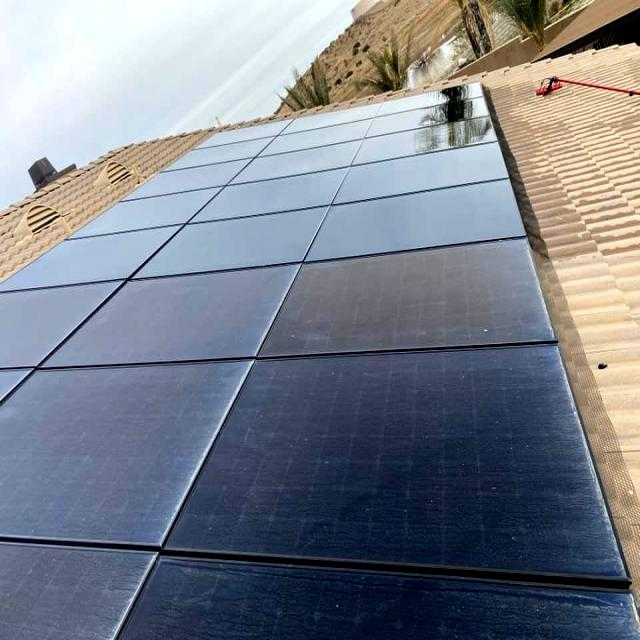dust: (261, 360, 560, 566), (170, 563, 566, 639), (11, 387, 184, 511), (0, 539, 167, 640), (124, 272, 256, 368), (310, 270, 517, 326)
